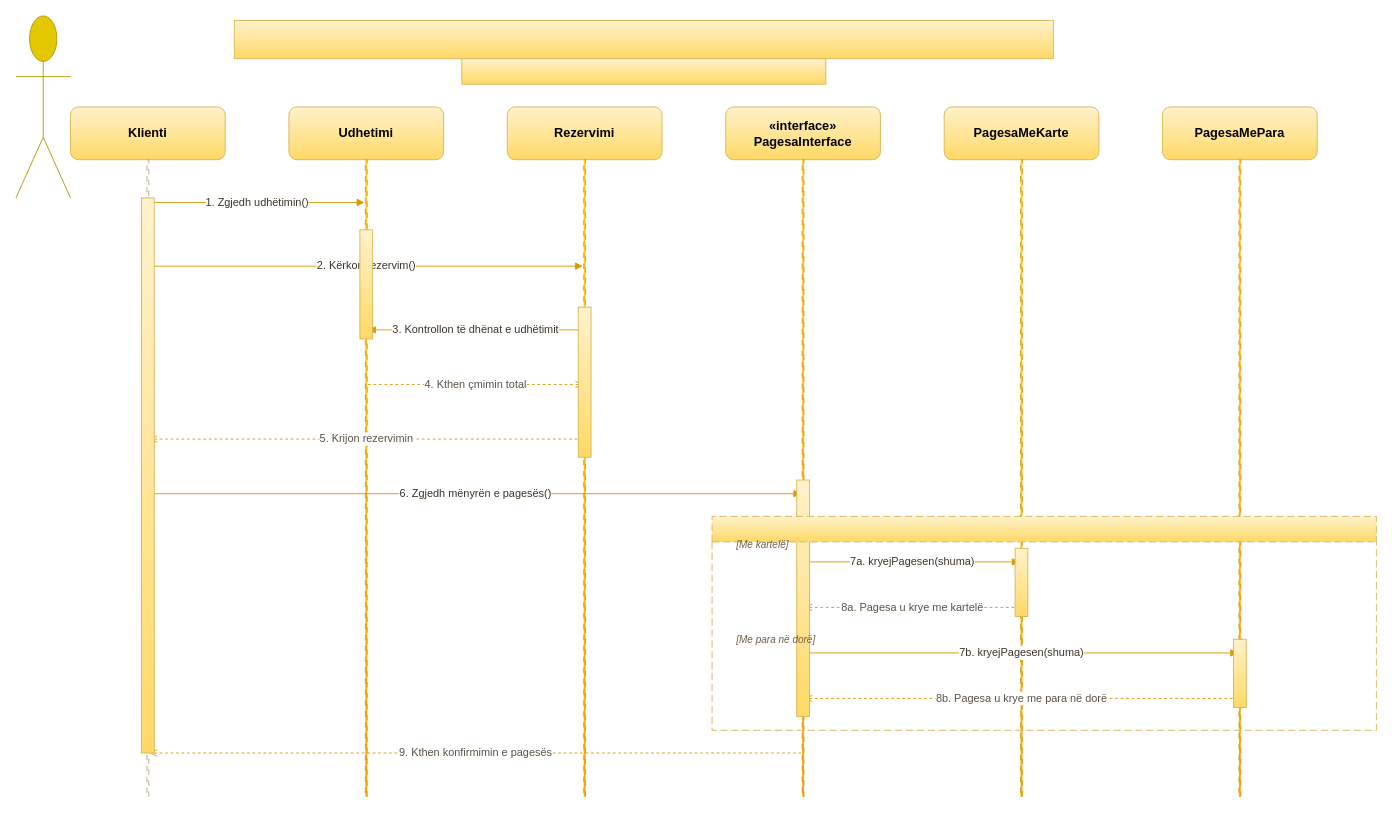
Image size: 1392x813. Some labels were removed from this diagram. Each missing label, with the box of its shape:
Actor: (15, 15, 71, 198)
Agjenci Udhëtimesh: (461, 58, 826, 84)
alt [Mënyra e pagesës]: (711, 516, 1376, 730)
Sequence Diagram – Rrjedha Kryesore e Sistemit: (233, 20, 1053, 59)
